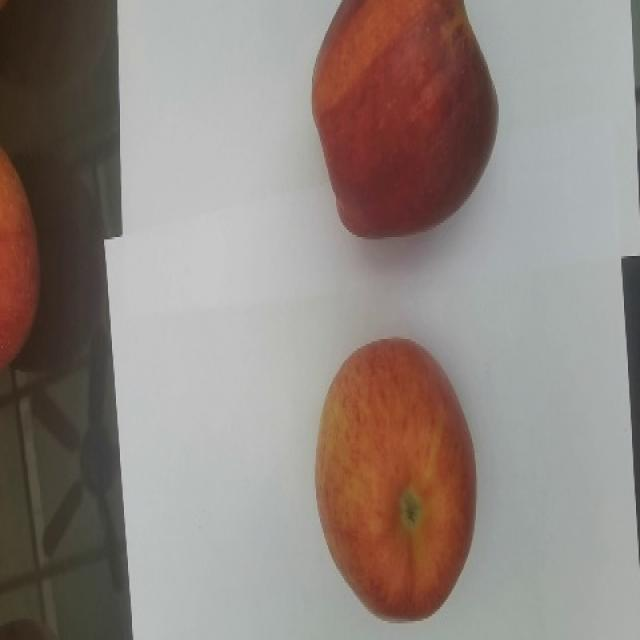Apple: (314, 336, 477, 623), (310, 0, 499, 238), (0, 145, 41, 371)
